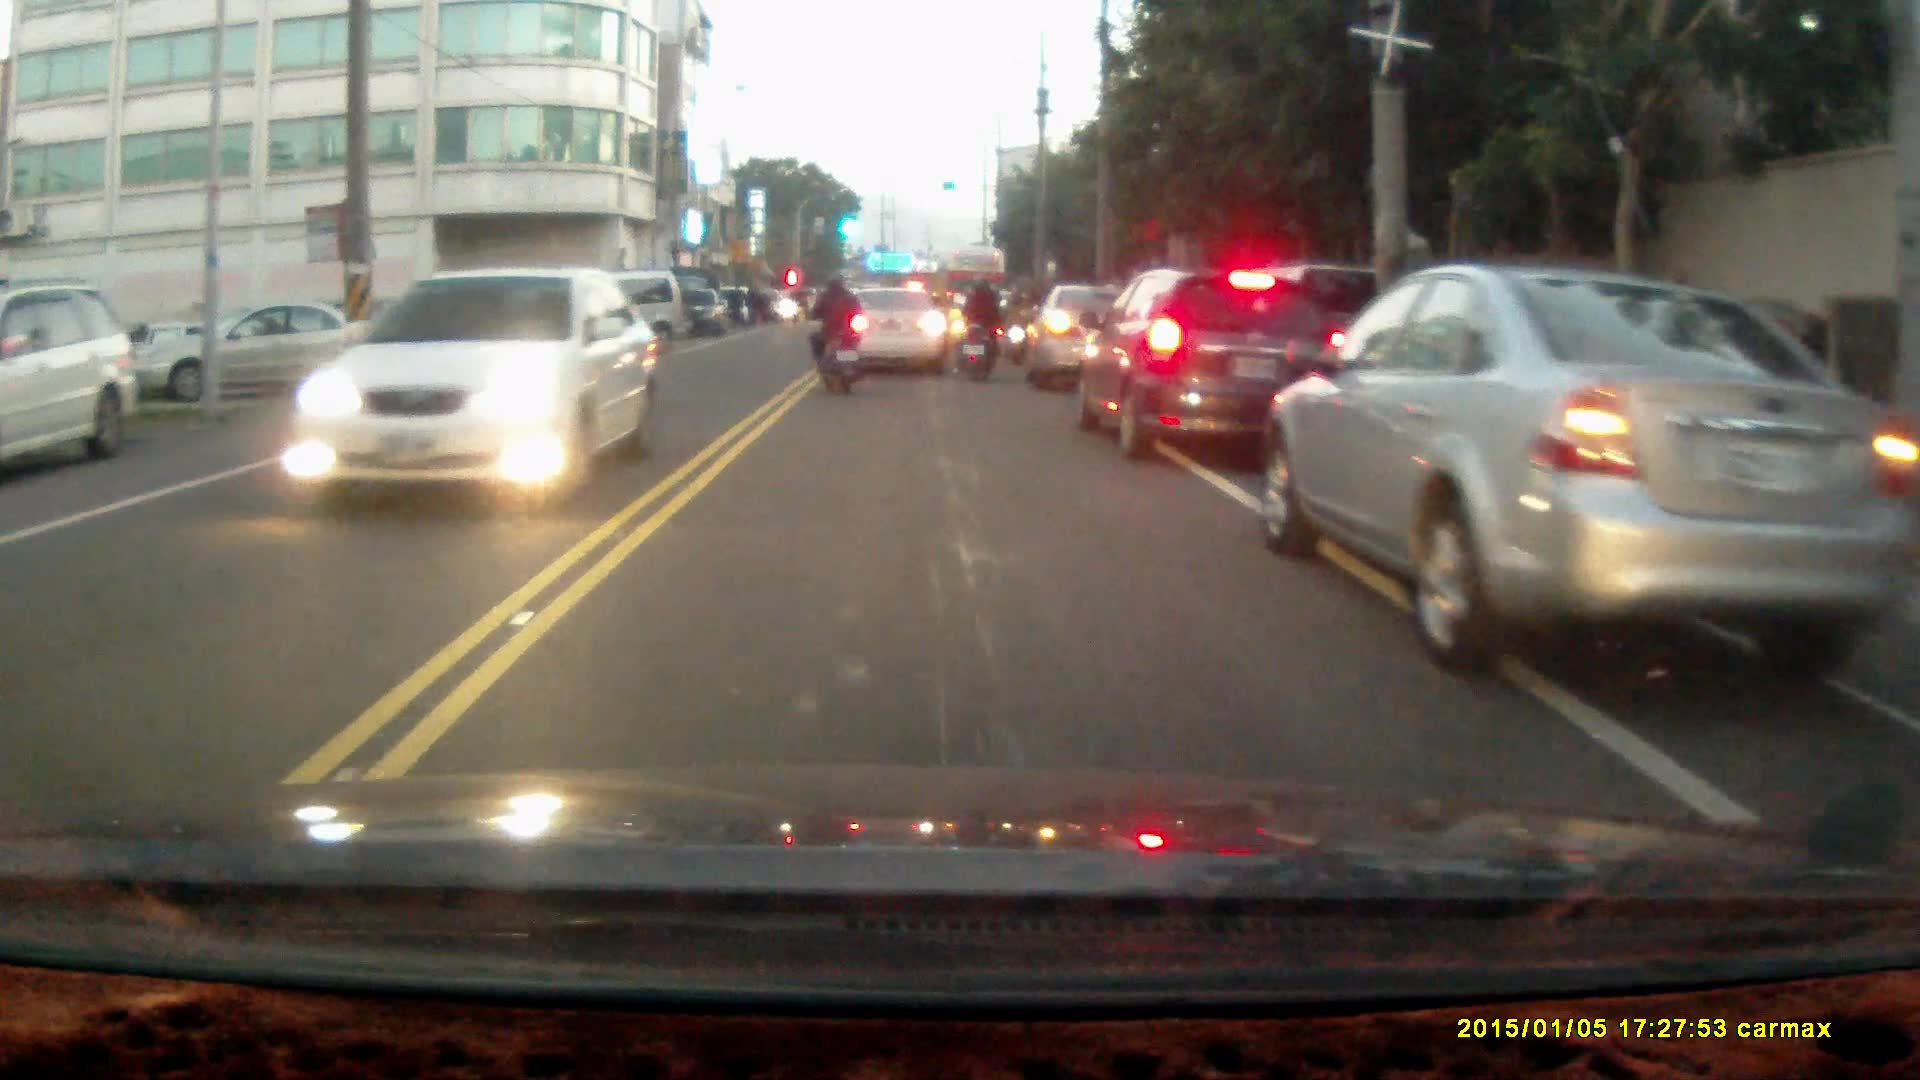rider: (804, 272, 863, 396), (955, 274, 1009, 381)
vehicle: (1270, 264, 1907, 671), (288, 268, 652, 507), (1073, 268, 1350, 465), (131, 299, 389, 402), (1, 283, 136, 476), (1018, 282, 1146, 396), (835, 287, 947, 382), (671, 290, 730, 340)
